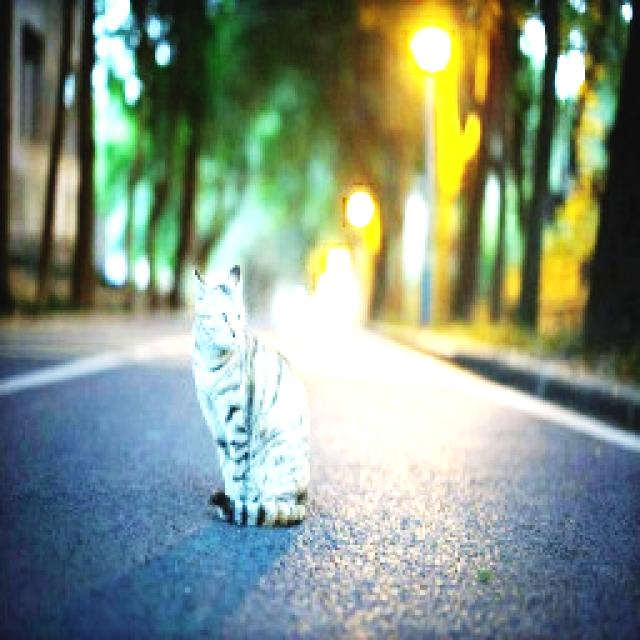cat: (187, 267, 315, 525)
